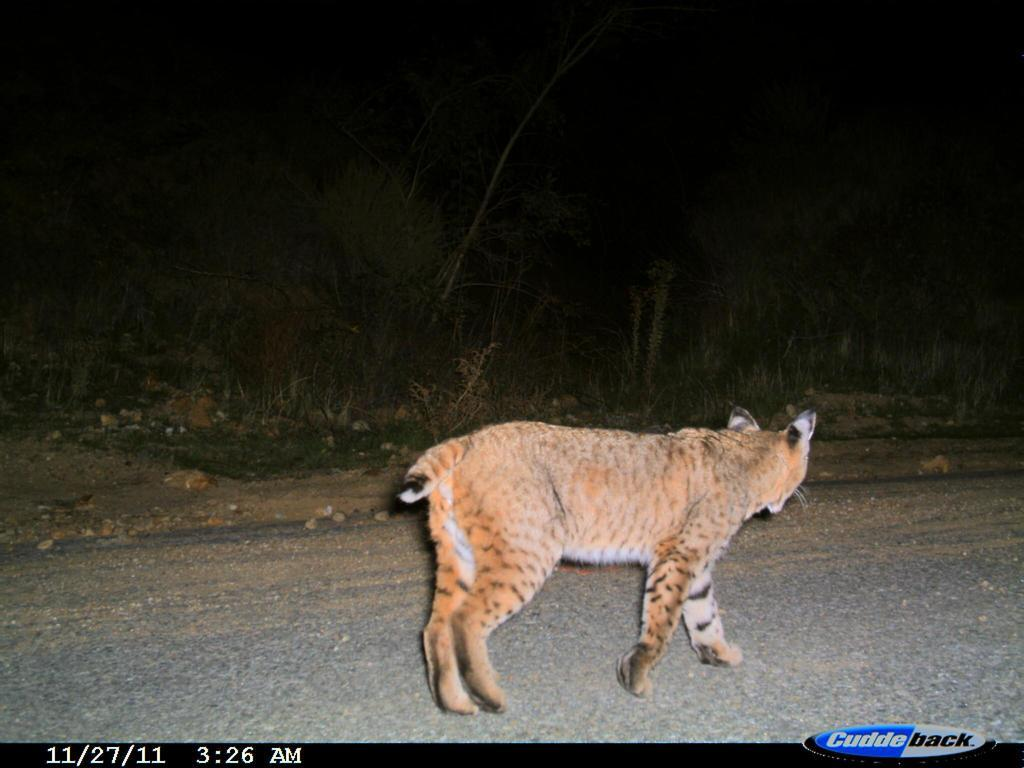bobcat: (391, 397, 825, 720)
